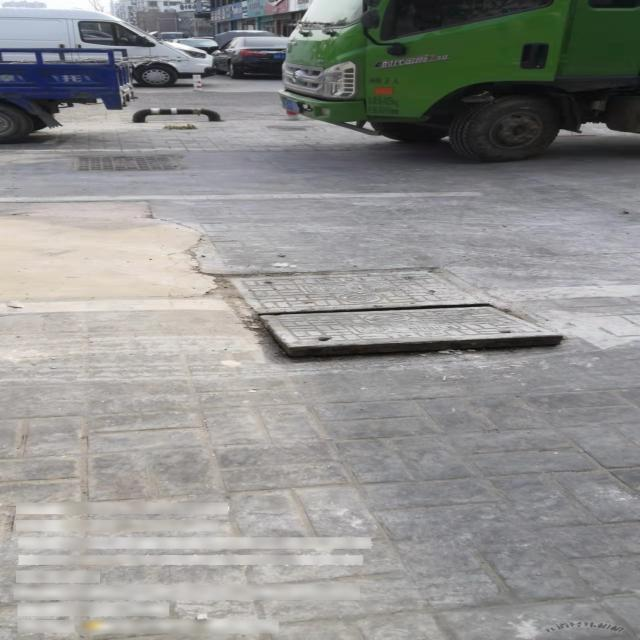Faulty: (220, 267, 565, 364)
